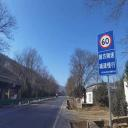speed_limit_60: (99, 34, 112, 49)
